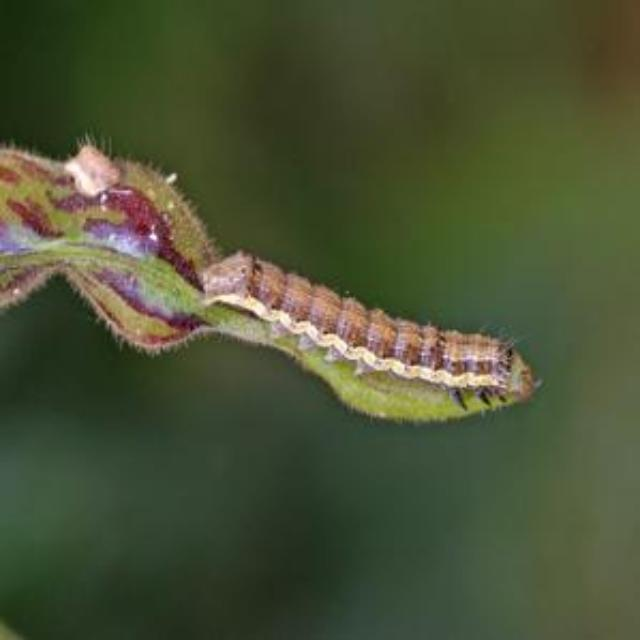Cotton bollworm: (182, 192, 554, 438)
